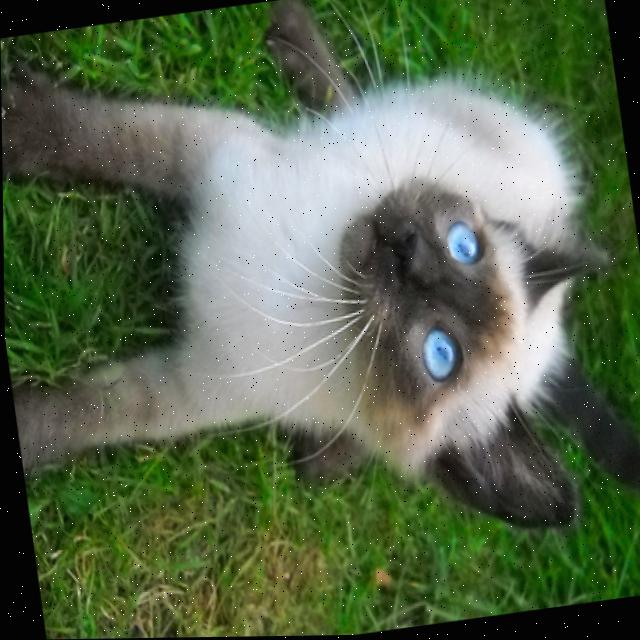Siamese: (0, 0, 640, 607)
